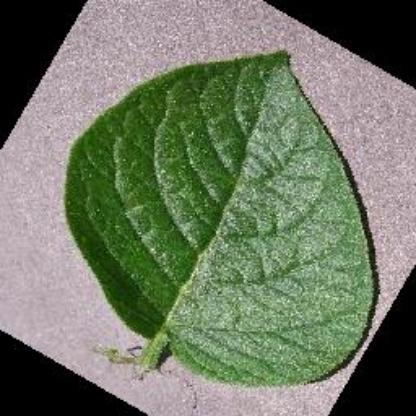Healthy-plant: (62, 52, 378, 392)
